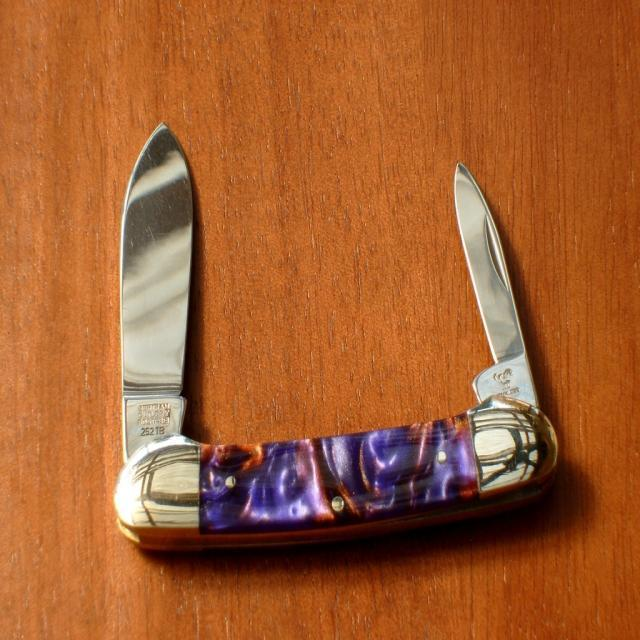Knife: (115, 125, 556, 551)
